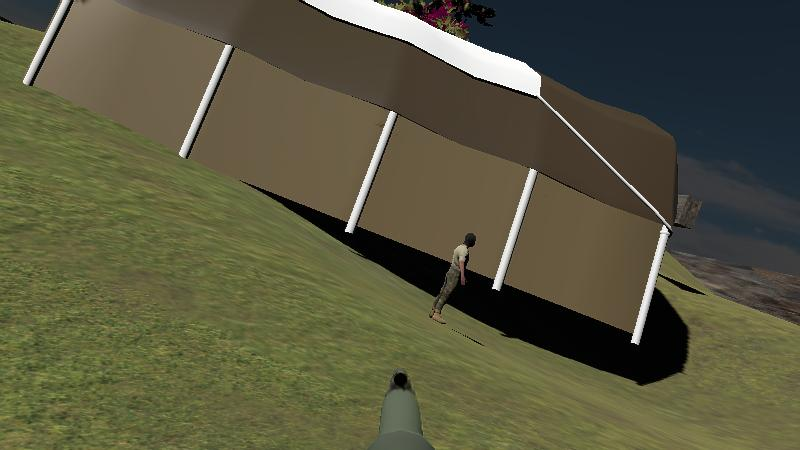Human: (426, 233, 481, 327)
